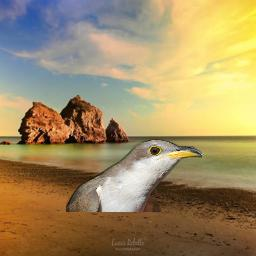Cuckoo: (66, 139, 202, 212)
